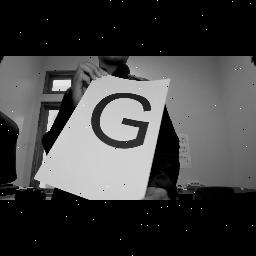g: (89, 90, 153, 150)
